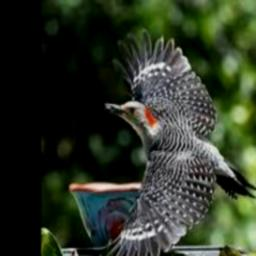Woodpecker: (84, 28, 256, 256)
